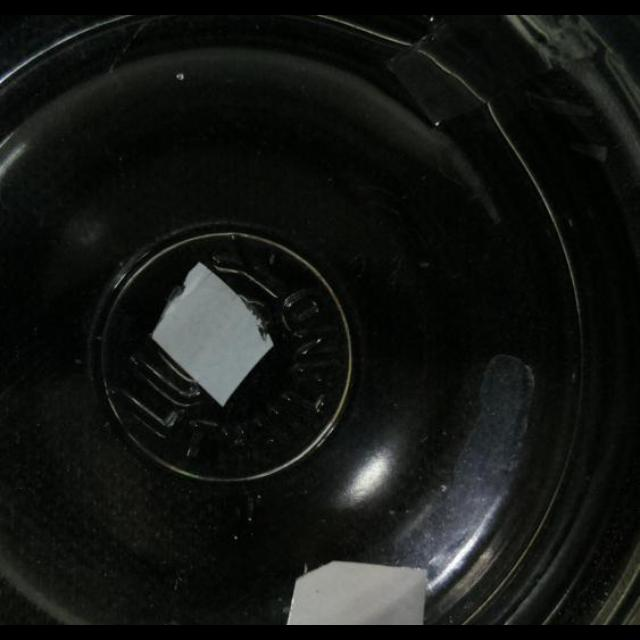Fragment: (150, 260, 278, 412), (283, 558, 429, 626)
microbeads: (176, 72, 184, 80)
